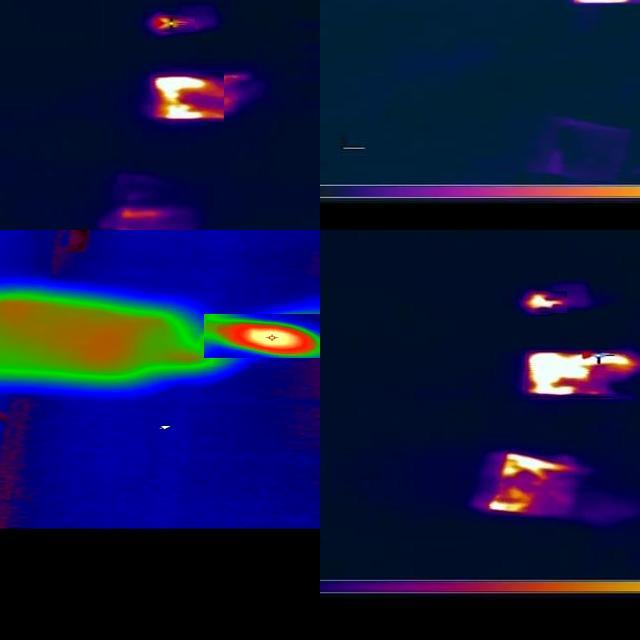fire: (484, 450, 588, 519), (526, 350, 640, 398), (208, 321, 324, 365), (151, 72, 225, 122), (521, 291, 568, 313), (152, 15, 196, 32)
